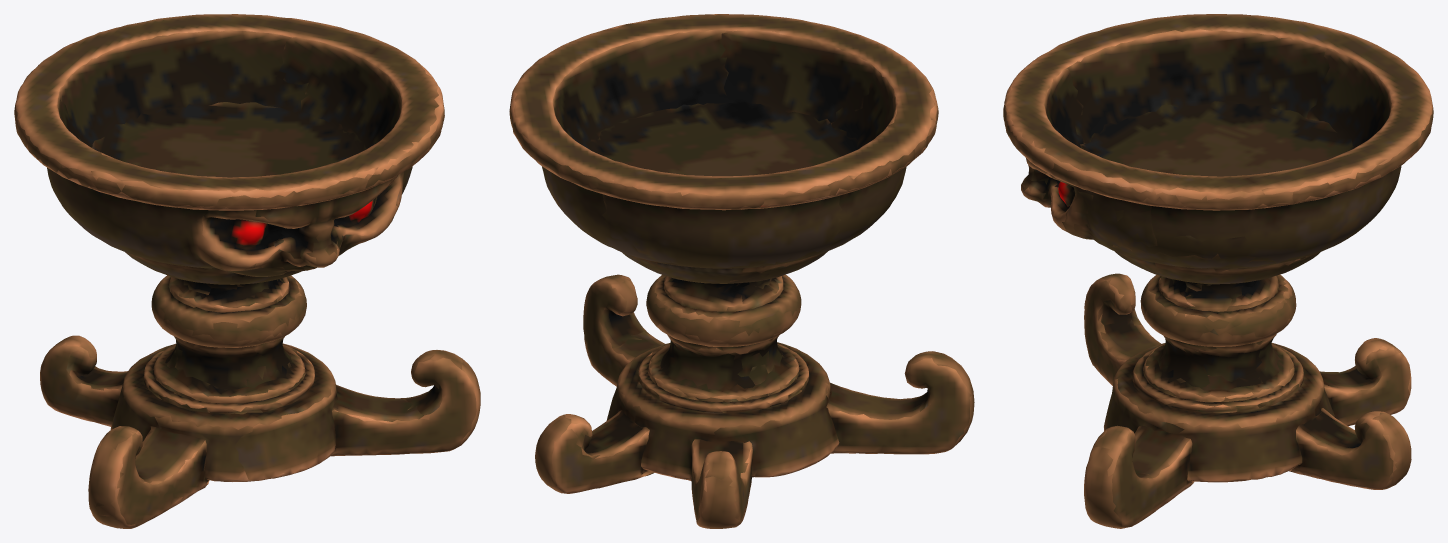
The model's file is SMRT_stand_mesh.obj.
The picture shows the model from 3 angles, left to right: view 1: azimuth 30°, elevation 25°; view 2: azimuth 150°, elevation 25°; view 3: azimuth 270°, elevation 25°; orthographic projection.
Size of the model in its own units: 1 by 0.8531 by 0.9655.
Materials: 1 (1 with a texture image).
